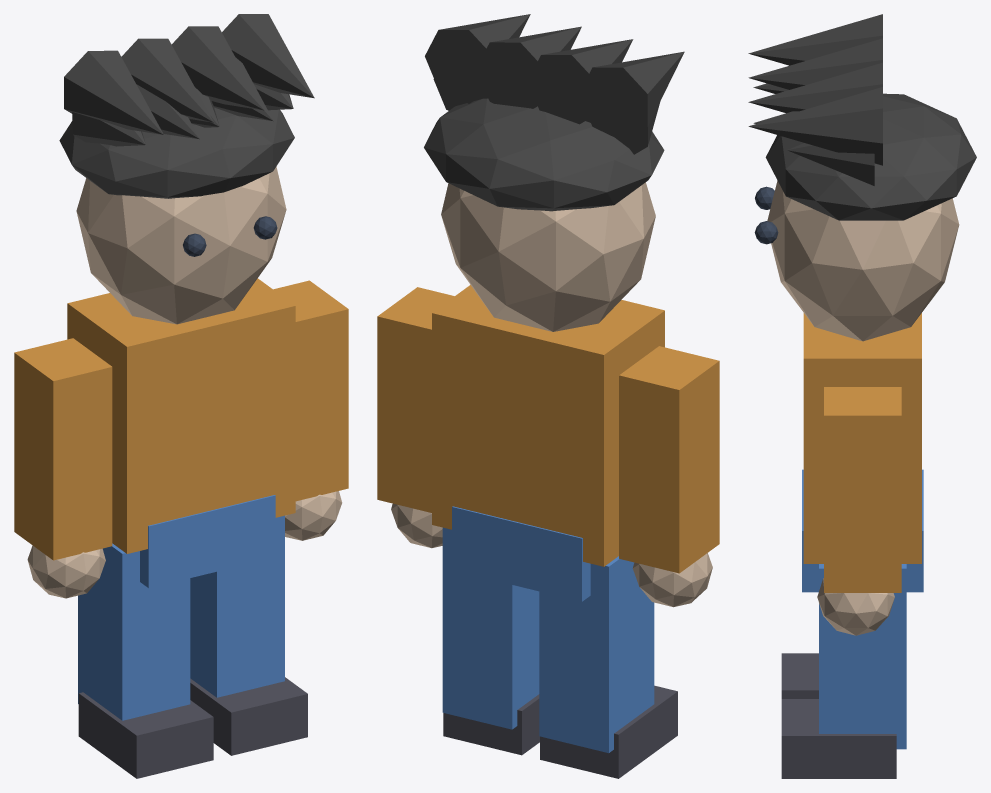
File: goku.glb
3 renders of one model, left to right at view 1: azimuth 30°, elevation 25°; view 2: azimuth 150°, elevation 25°; view 3: azimuth 270°, elevation 25°, orthographic. The views are drawn at different scales.
Visible parts, largest first — view 1: part_000, part_010, part_002, part_004, part_013, part_008, part_006, part_001, part_005, part_009, part_019, part_021 (+8 smaller); view 2: part_000, part_010, part_002, part_013, part_004, part_008, part_006, part_001, part_019, part_005, part_021, part_022 (+4 smaller); view 3: part_010, part_006, part_013, part_000, part_008, part_009, part_022, part_020, part_019, part_021, part_007, part_005 (+3 smaller).
Boxes of the visible parts, <box> form: part_000: <box>67,278,295,553</box>; part_010: <box>76,166,286,324</box>; part_002: <box>14,338,112,560</box>; part_004: <box>78,543,190,720</box>; part_013: <box>59,107,294,198</box>; part_008: <box>190,515,284,697</box>; part_006: <box>273,280,348,501</box>; part_001: <box>140,495,275,588</box>; part_005: <box>78,692,213,778</box>; part_009: <box>190,677,307,755</box>; part_019: <box>64,50,163,134</box>; part_021: <box>171,26,264,110</box>; part_000: <box>432,285,664,566</box>; part_010: <box>441,182,655,331</box>; part_002: <box>619,346,719,573</box>; part_013: <box>424,98,664,211</box>; part_004: <box>539,556,654,753</box>; part_008: <box>442,527,539,729</box>; part_006: <box>377,287,454,512</box>; part_001: <box>452,506,590,601</box>; part_019: <box>579,51,684,141</box>; part_005: <box>540,685,677,778</box>; part_021: <box>476,26,581,108</box>; part_022: <box>425,14,530,103</box>; part_010: <box>767,180,959,341</box>; part_006: <box>824,387,901,592</box>; part_013: <box>765,93,976,220</box>; part_000: <box>803,313,921,563</box>; part_008: <box>819,564,906,749</box>; part_009: <box>781,699,896,778</box>; part_022: <box>748,87,882,165</box>; part_020: <box>748,38,882,89</box>; part_019: <box>748,14,882,65</box>; part_021: <box>748,62,882,113</box>; part_007: <box>817,578,894,635</box>; part_005: <box>781,653,818,698</box>.
Size of the model in its own units: 1.03 by 2.23 by 0.6778.
